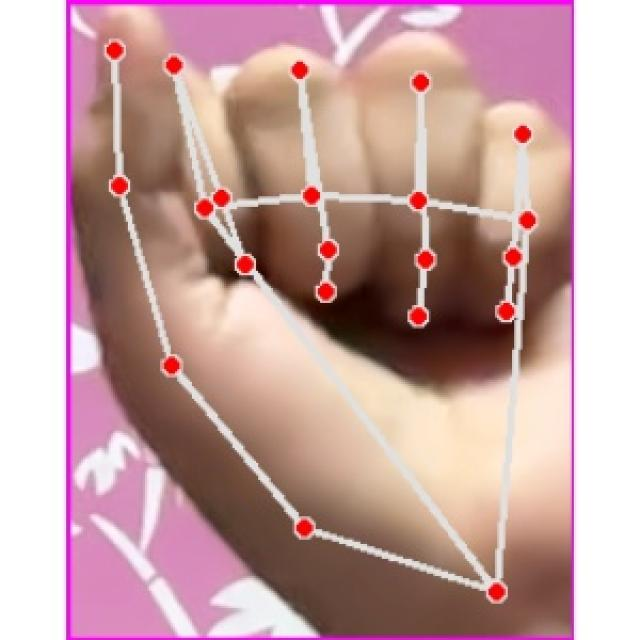A: (68, 6, 574, 640)
